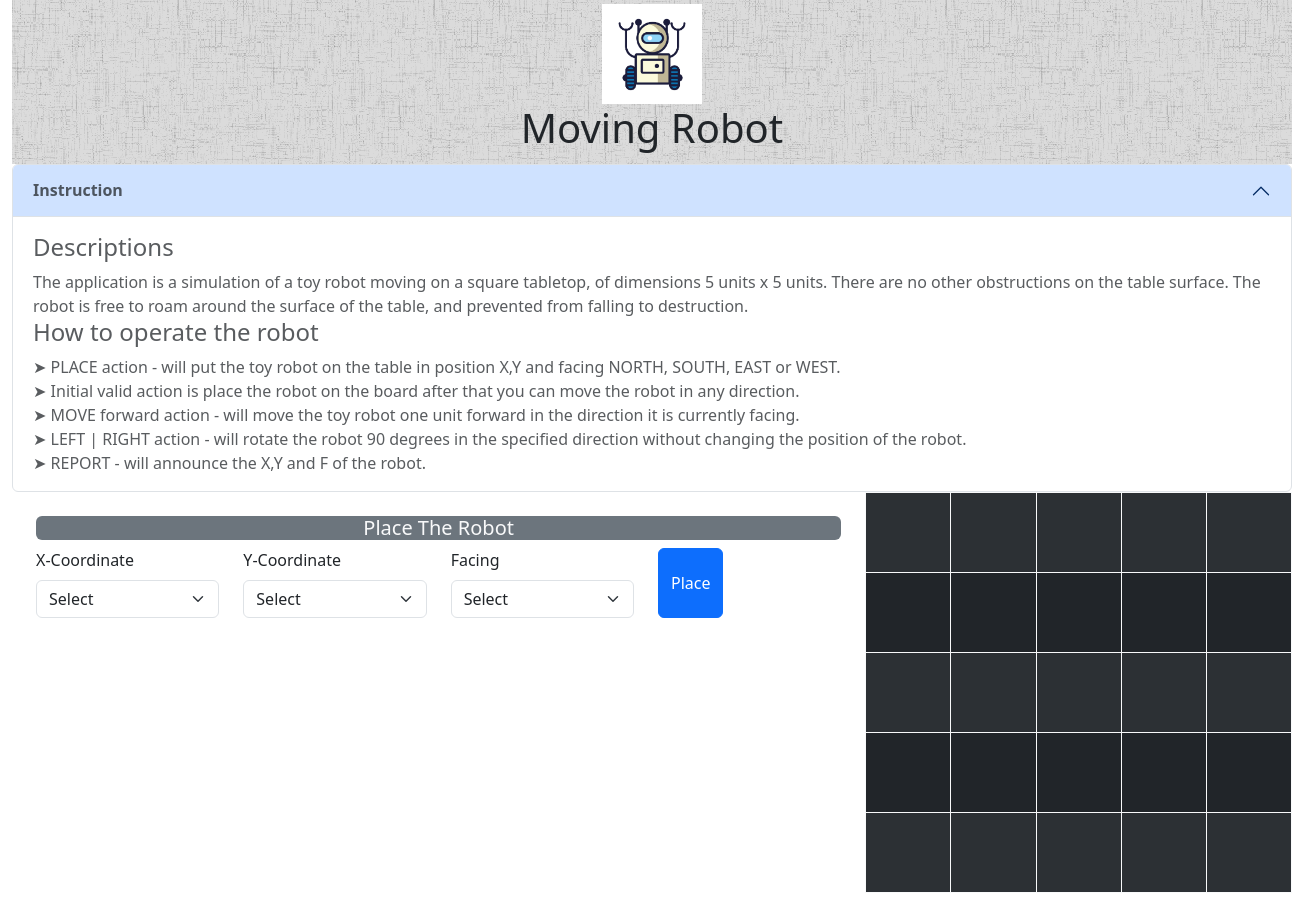
Test case: robot get placed at position (1,1) SOUTH by Place button with correct report
The image size is (1304, 900).
Step 1. Select "1" in the dropdown with test id "xCoord" → (128, 599), box [36,580,219,618]
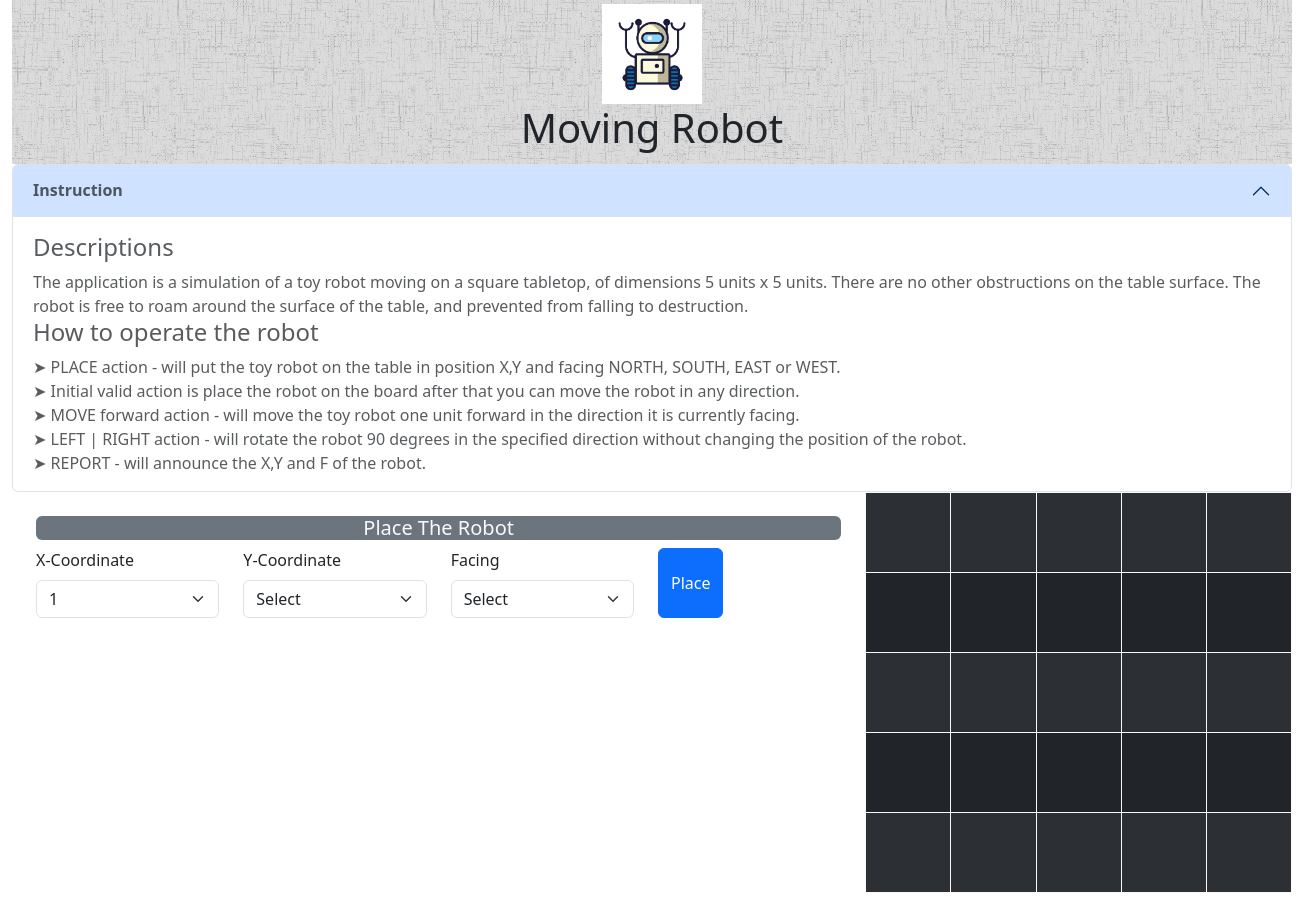
Step 2. Select "1" in the dropdown with test id "yCoord" → (335, 599), box [243,580,427,618]
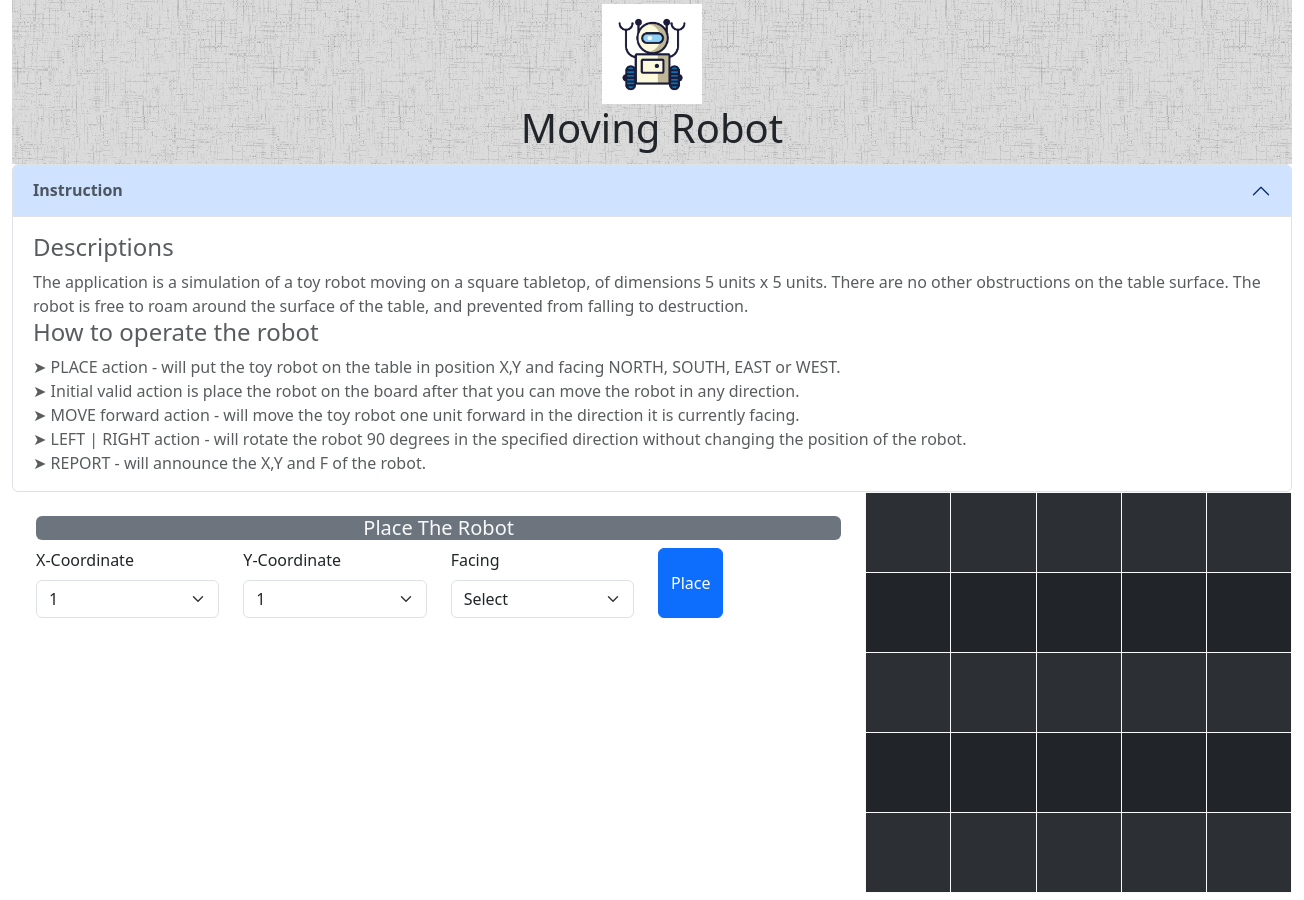
Step 3. Select "SOUTH" in the dropdown with test id "facing" → (542, 599), box [451,580,634,618]
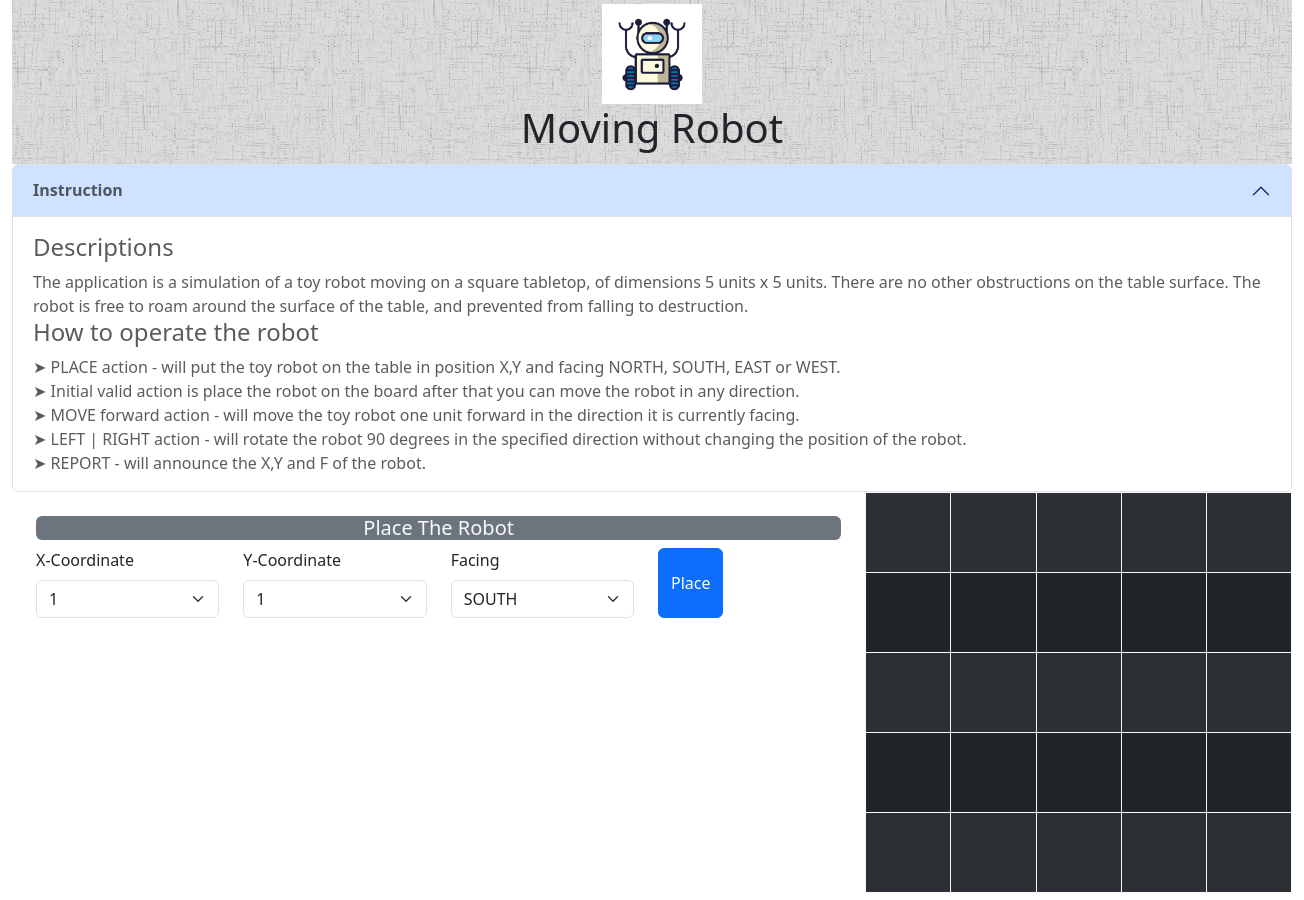
Step 4. Click the button "Place" → (691, 583), box [658,548,724,618]
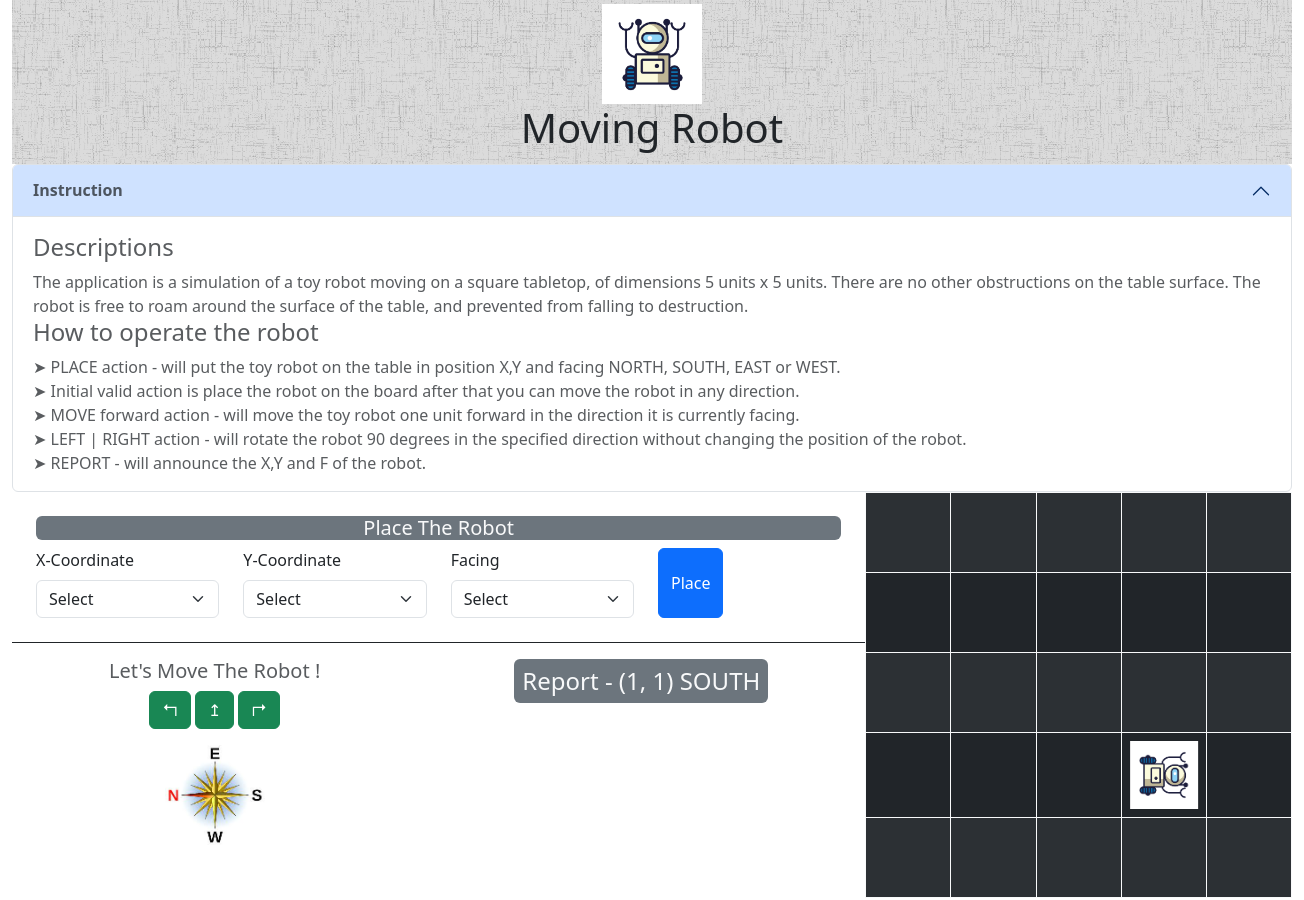
Result: the heading "Report - (1, 1) SOUTH" is shown at [514,659,768,703]
